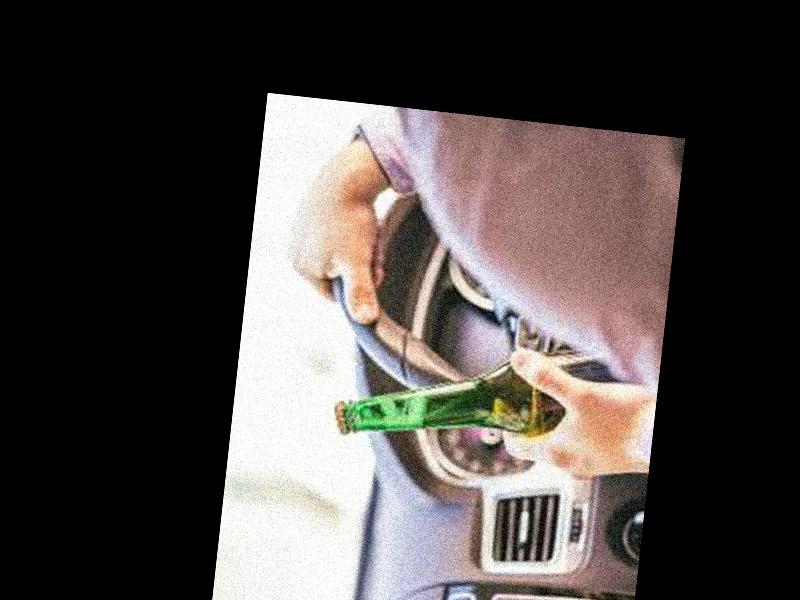Beer: (329, 319, 648, 468)
